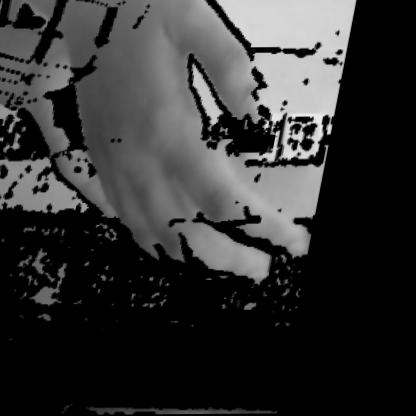dua: (0, 0, 352, 288)
